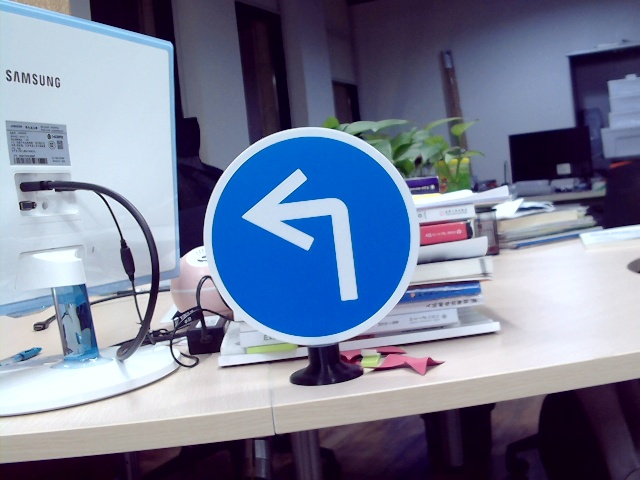turn_left: (240, 169, 378, 304)
